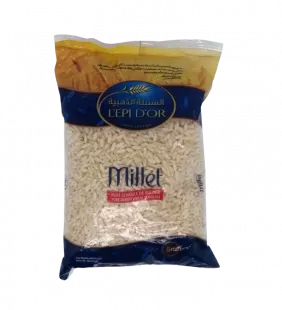L'EPI D'OR: (43, 27, 229, 286)
